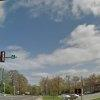Tree: (36, 67, 64, 97)
